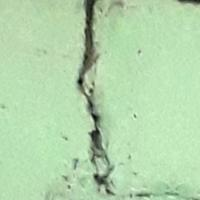crack: (63, 0, 123, 190)
